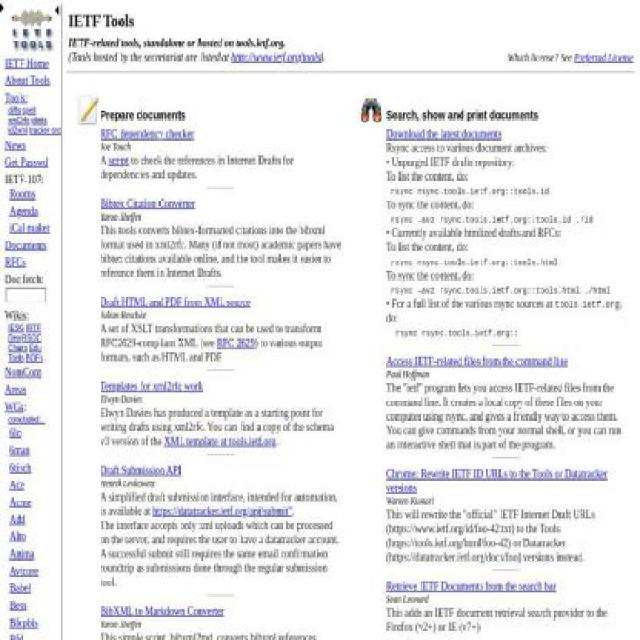field: (5, 288, 46, 303)
